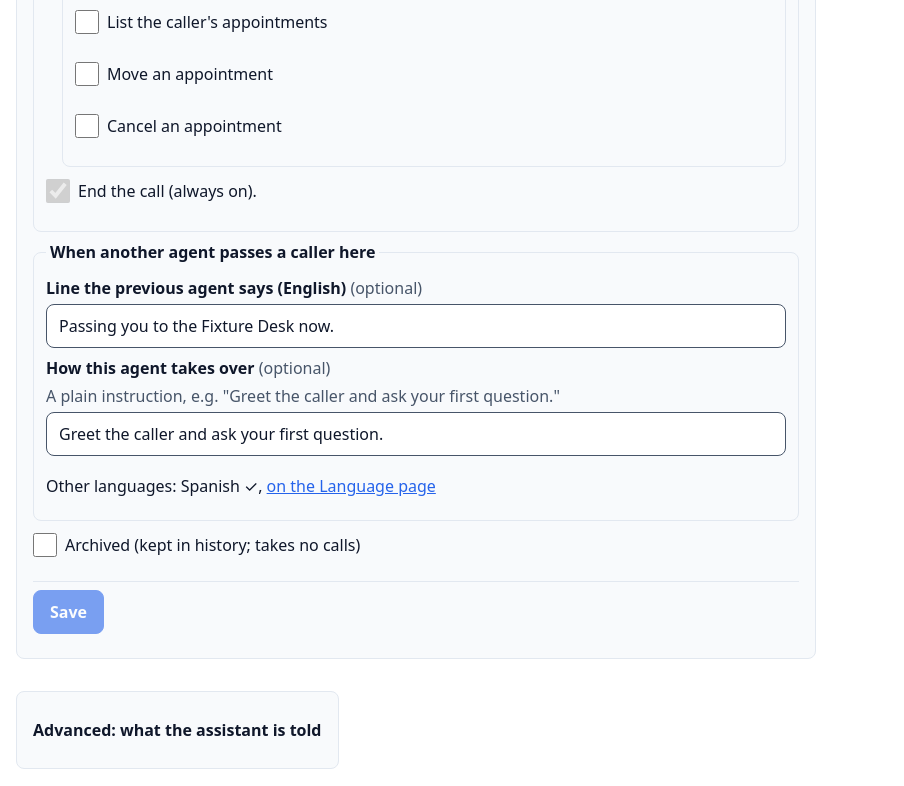
Scenario: T-FE: agents › keeps what the assistant is told in a collapsed Advanced section
(page scrolled)
Click the heading "Advanced: what the assistant is told": click(177, 730) x1=33 y1=719 x2=322 y2=741
(page scrolled)
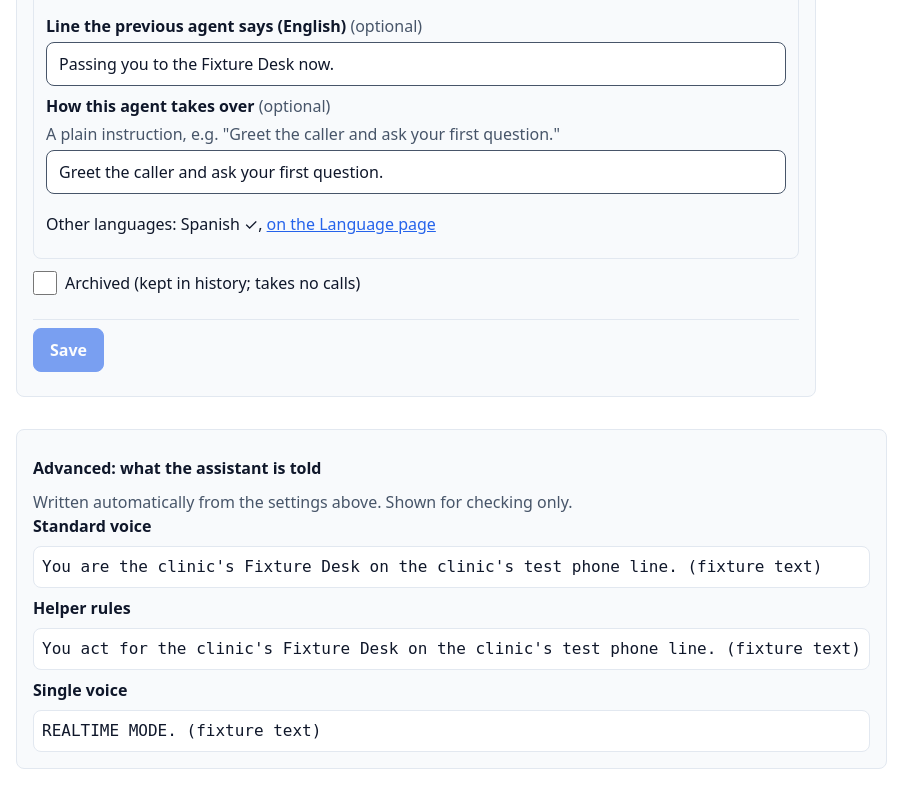
Check: the text with test id "agent-compiled-prompt" shows "You are the clinic's Fixture Desk", box x1=42 y1=557 x2=822 y2=576
